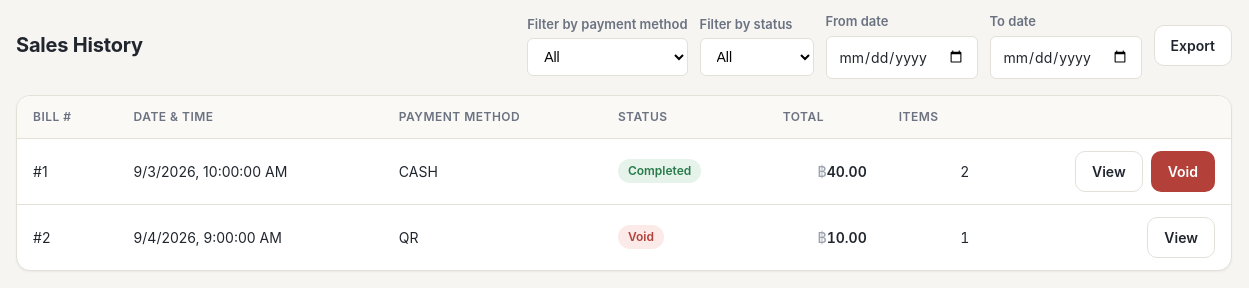
SalesHistoryPage › filters by payment method
The image size is (1249, 288).
Expected: the text "#1" is shown, [17,138,118,204]
Expected: the text "#2" is shown, [17,204,118,270]
Select "QR" in the dropdown labelled "Filter by payment method" at (607, 57), box [527,38,688,76]
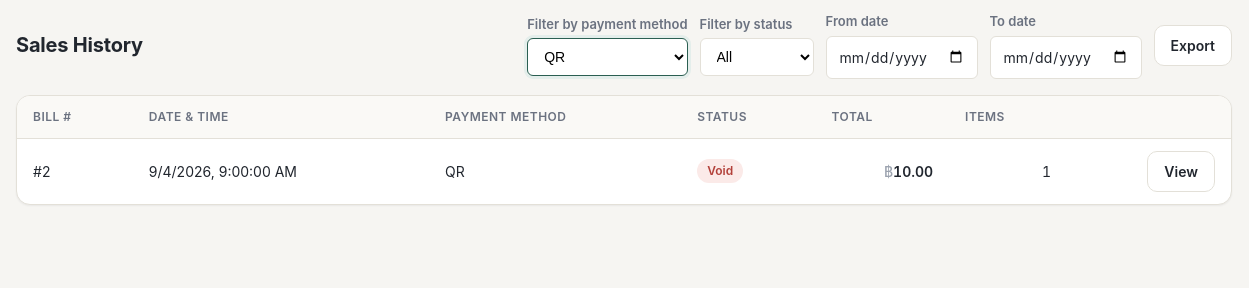
Expected: the text "#2" is shown, [17,138,133,204]
Now the text "#1" is gone
